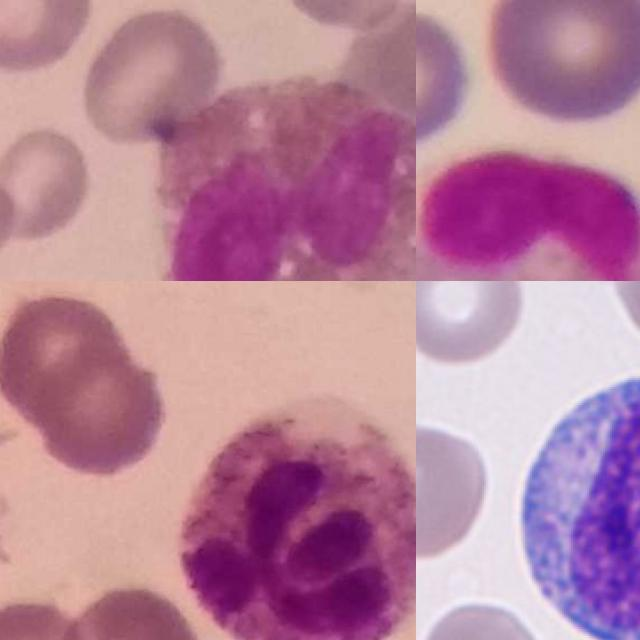Eosinophil: (157, 78, 416, 281), (416, 142, 640, 281)
Lymphocyte: (501, 355, 640, 640)
Neutrophil: (181, 397, 416, 640)
RBC: (416, 422, 492, 563), (416, 281, 530, 367), (416, 595, 548, 640)
